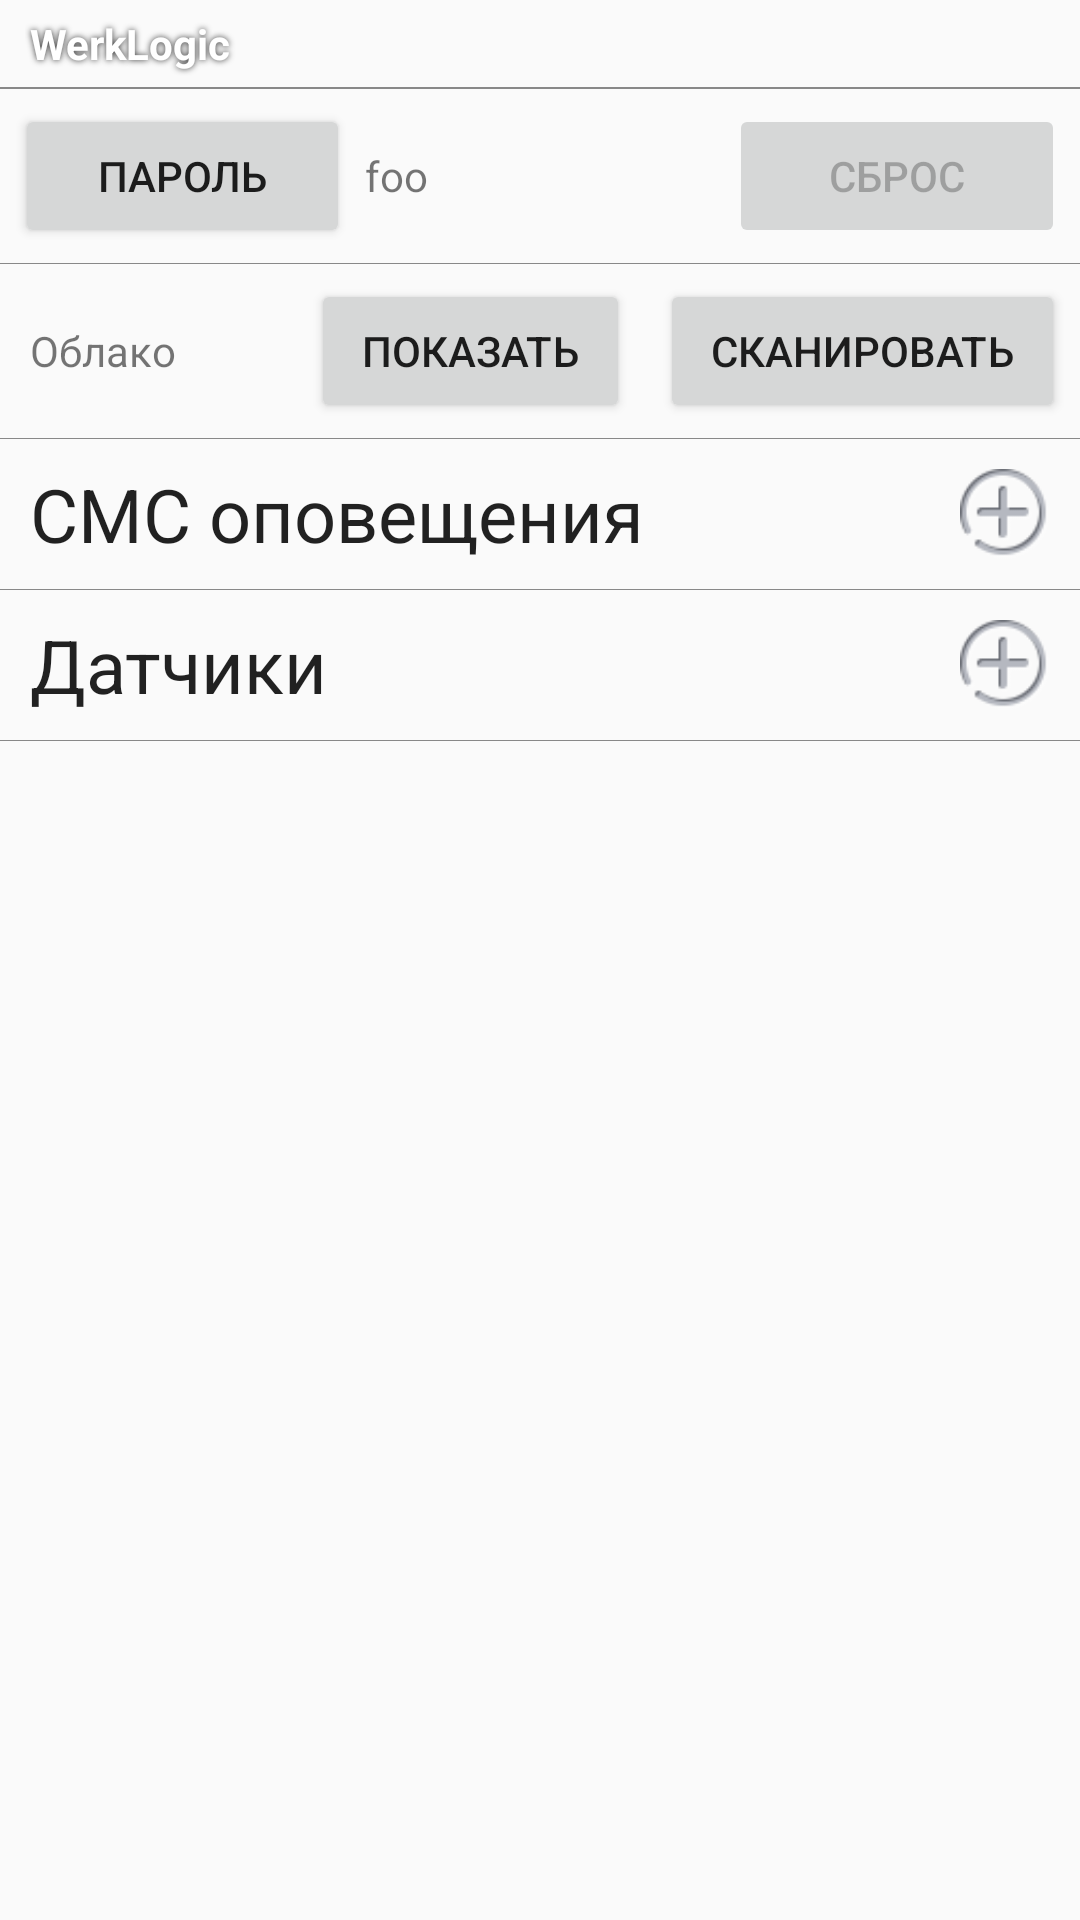

Screen size 1080 x 1920. Icon name, then its box in pixels as box(x1, y1, x2, y2):
add: box(960, 469, 1046, 555), box(960, 620, 1046, 706)
